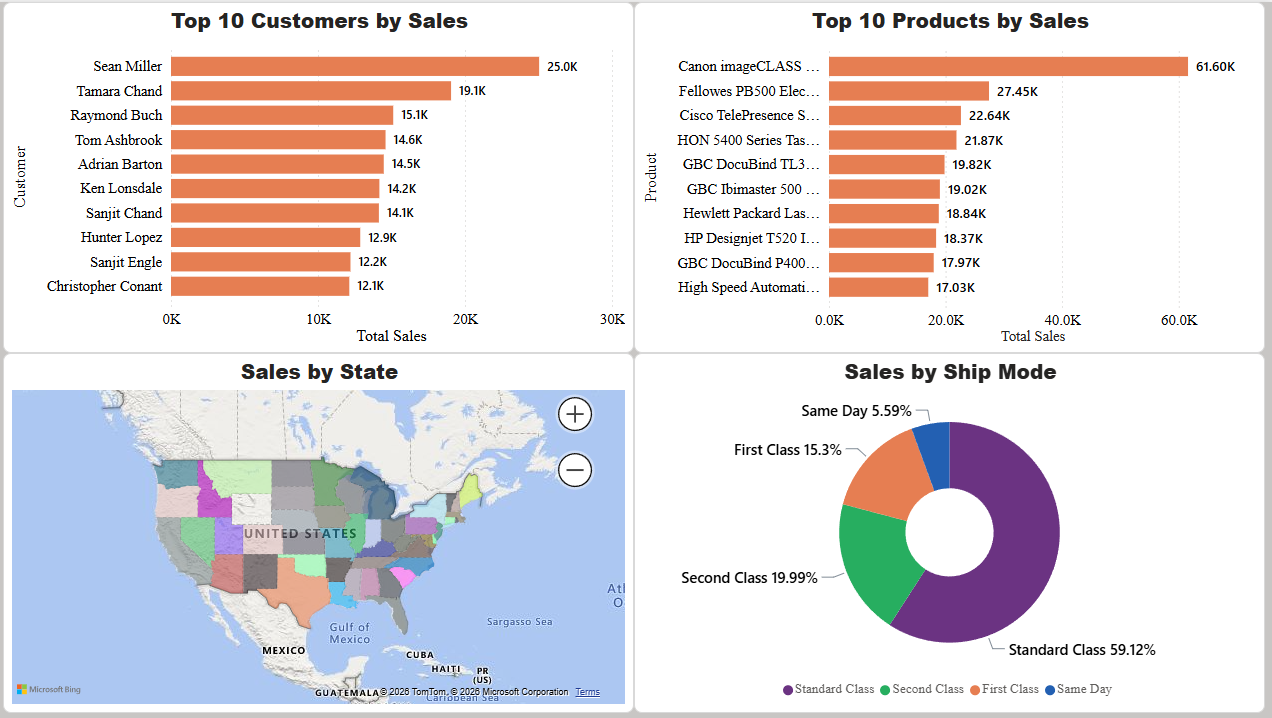

Layout of this report page (visuals, bound fields, positions):
{"tool":"powerbi","page":{"name":"Detailed analytical visuals","canvas":[1280,720],"ordinal":1},"visuals":[{"type":"clusteredBarChart","title":"Top 10 Customers by Sales","fields":{"Category":["sales_customer_data.Customer Name"],"Y":["Sum(sales_customer_data.Sales)"]},"box":[8.9,0,631.1,351.1],"z":0},{"type":"clusteredBarChart","title":"Top 10 Products by Sales","fields":{"Category":["sales_customer_data.Product Name"],"Y":["Sum(sales_customer_data.Sales)"]},"box":[640,0,631.1,351.1],"z":1000},{"type":"filledMap","title":"Sales by State","fields":{"Category":["sales_customer_data.State"],"Series":["sales_customer_data.Sales"]},"box":[8.9,351.1,631.1,360],"z":2000},{"type":"donutChart","title":"Sales by Ship Mode","fields":{"Category":["sales_customer_data.Ship Mode"],"Y":["Sum(sales_customer_data.Sales)"]},"box":[640,351.1,631.1,360],"z":3000}]}

Visuals, with their boxes in screenshot pixels (x1, y1, x2, y2), scaled from the page's 1280x720 canvas onto the 1272x718 screenshot:
"Top 10 Customers by Sales" clusteredBarChart: 9/0/636/350
"Top 10 Products by Sales" clusteredBarChart: 636/0/1263/350
"Sales by State" filledMap: 9/350/636/709
"Sales by Ship Mode" donutChart: 636/350/1263/709
